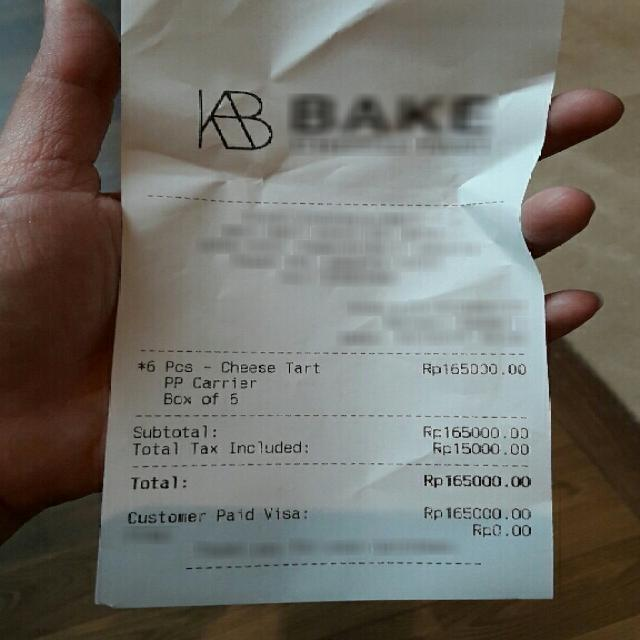kertas: (97, 0, 562, 614)
